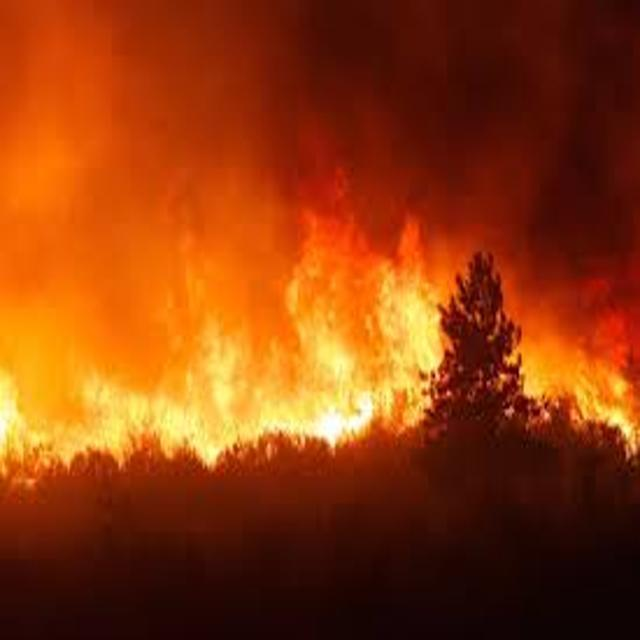Fire: (250, 208, 640, 460), (0, 313, 246, 473)
Smoke: (249, 0, 640, 211), (0, 0, 250, 311)
